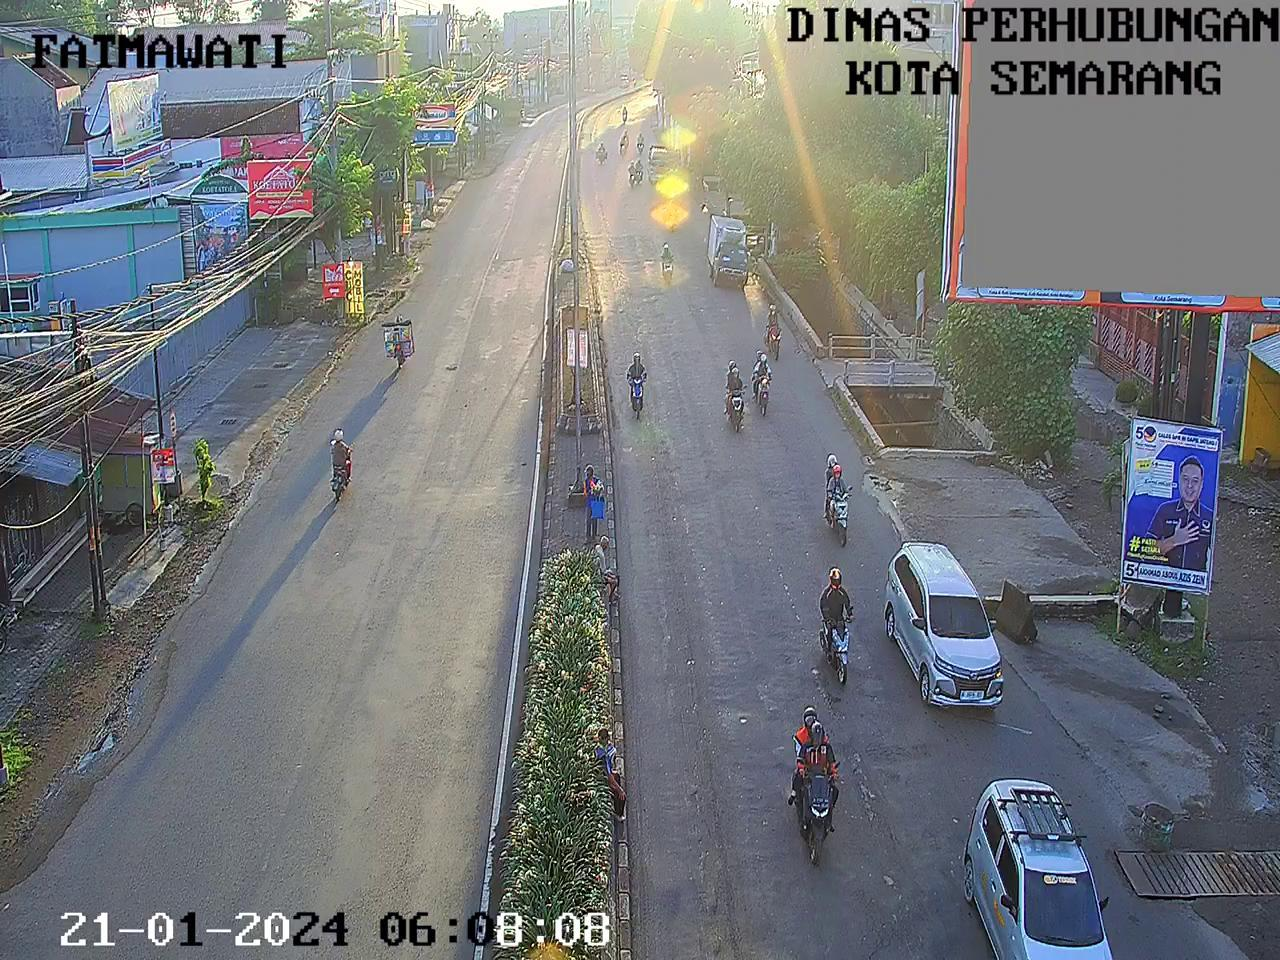car: (965, 766, 1106, 960), (887, 532, 1001, 723), (711, 211, 747, 292), (651, 143, 669, 178)
motorcycle: (784, 700, 847, 872), (821, 564, 857, 692), (825, 450, 855, 550), (721, 352, 747, 448), (747, 337, 775, 425), (760, 296, 788, 365), (624, 347, 648, 422), (655, 231, 683, 292), (596, 140, 610, 169), (628, 157, 636, 190), (635, 131, 644, 156), (619, 133, 626, 160), (623, 125, 630, 150), (621, 105, 629, 126), (636, 157, 642, 186)
